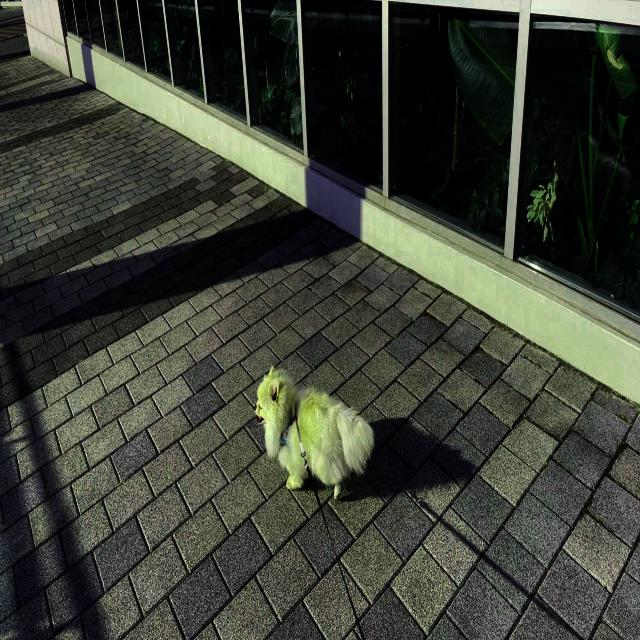Dog: (253, 363, 375, 503)
